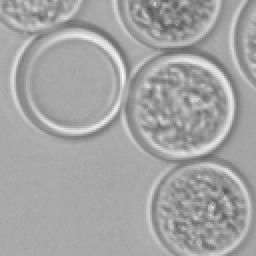picoshell: (12, 25, 128, 136), (122, 52, 236, 160), (152, 162, 250, 254), (112, 0, 220, 48), (230, 0, 254, 86)
